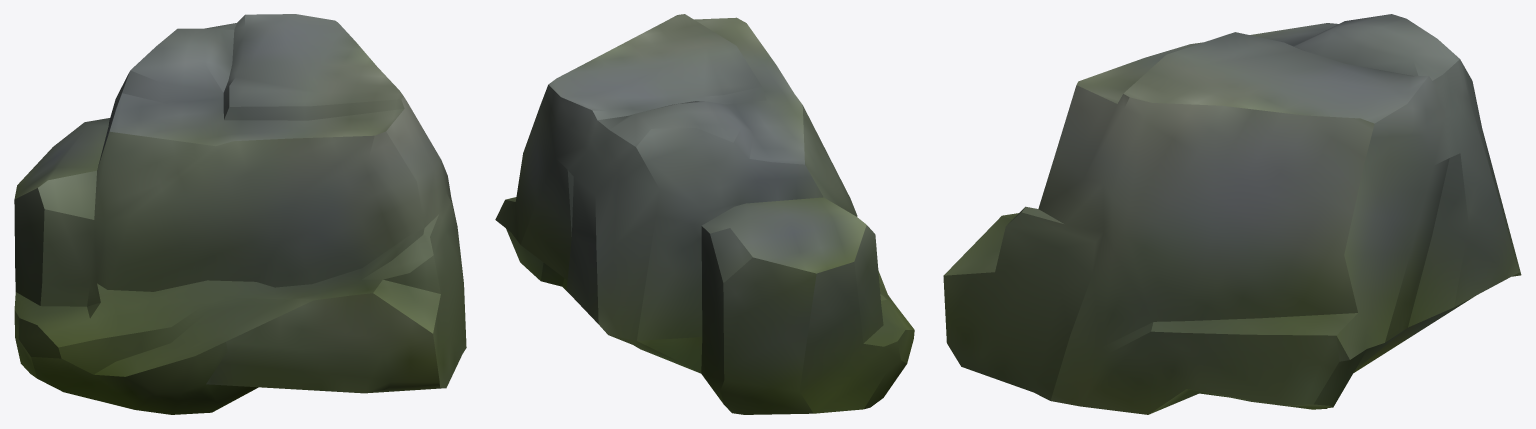
Rendered from rock-3.glb.
3 views of the same model, side by side, from view 1: azimuth 30°, elevation 25°; view 2: azimuth 150°, elevation 25°; view 3: azimuth 270°, elevation 25° (orthographic). The views are drawn at different scales.
Visible parts, largest first — view 1: Rock_Medium_3; view 2: Rock_Medium_3; view 3: Rock_Medium_3.
Part boxes in pixels (x1,y1,x2,y2): Rock_Medium_3: (14, 14, 466, 414); Rock_Medium_3: (495, 14, 914, 414); Rock_Medium_3: (943, 14, 1521, 414).
Bounding box in the file's own units: 1.18 × 0.8 × 1.2.
Materials: 1 (1 with a texture image).
